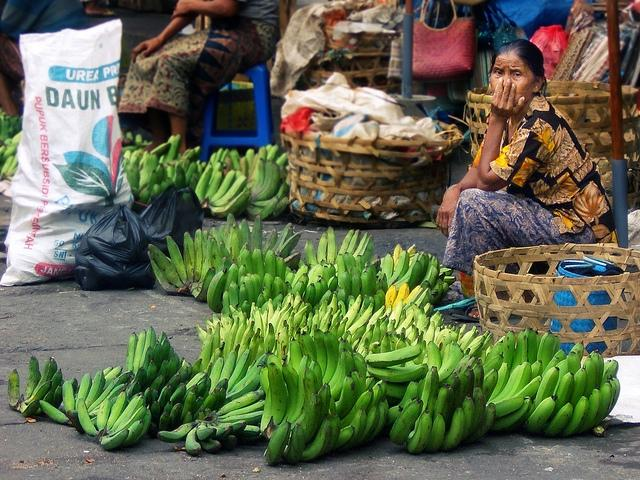banana: (287, 391, 322, 446), (227, 350, 270, 394), (261, 352, 282, 437), (300, 412, 332, 462), (290, 354, 312, 426), (390, 398, 423, 445), (148, 244, 184, 287), (307, 382, 331, 444), (555, 396, 590, 438), (364, 344, 423, 368), (522, 395, 558, 434), (106, 394, 140, 434), (464, 402, 496, 444), (337, 408, 367, 452), (330, 348, 355, 400), (216, 390, 266, 416), (208, 188, 250, 218), (268, 362, 288, 425), (210, 174, 248, 207), (328, 340, 353, 390), (112, 396, 144, 434), (407, 406, 432, 454), (577, 388, 603, 434), (88, 378, 121, 414), (167, 236, 190, 286), (226, 349, 252, 393), (265, 422, 291, 466), (502, 362, 532, 400), (280, 362, 298, 424), (90, 383, 128, 412), (535, 366, 560, 410), (254, 160, 280, 202), (445, 372, 462, 436), (354, 406, 381, 446), (420, 366, 440, 419), (542, 402, 573, 436), (438, 346, 464, 386), (281, 423, 305, 466), (367, 364, 424, 382), (551, 372, 574, 416), (366, 401, 390, 443), (207, 268, 228, 314), (217, 400, 265, 420), (322, 330, 339, 386), (346, 301, 374, 335), (210, 168, 237, 203), (335, 374, 356, 419), (494, 396, 531, 421), (469, 387, 487, 438), (157, 420, 198, 442), (433, 383, 454, 425), (302, 366, 320, 415), (106, 391, 128, 431), (536, 330, 556, 374), (424, 413, 446, 453), (488, 362, 510, 402), (191, 267, 216, 302), (247, 196, 280, 222), (388, 250, 410, 288), (218, 344, 240, 382), (328, 425, 356, 454), (138, 326, 156, 370), (340, 294, 362, 330), (84, 371, 104, 410), (374, 378, 409, 400), (570, 367, 586, 415), (78, 398, 98, 436), (42, 368, 62, 406), (195, 164, 213, 205), (510, 330, 526, 376), (275, 231, 302, 258), (514, 375, 542, 401), (24, 380, 53, 405), (40, 400, 70, 424), (397, 379, 421, 408), (217, 420, 260, 436), (24, 357, 40, 400), (248, 146, 266, 184), (484, 335, 506, 366), (183, 231, 196, 283), (461, 394, 475, 442), (8, 368, 24, 410), (406, 290, 430, 318), (132, 328, 146, 376), (272, 302, 292, 335), (458, 366, 474, 407), (314, 329, 327, 379), (276, 306, 294, 342), (75, 373, 92, 411), (218, 410, 264, 424), (582, 355, 596, 401), (100, 430, 129, 452), (198, 230, 210, 283), (522, 328, 538, 366), (223, 256, 239, 294), (500, 330, 516, 367), (482, 368, 498, 405), (226, 316, 240, 358), (252, 158, 266, 200), (261, 228, 278, 262), (366, 383, 383, 417), (606, 377, 620, 418), (121, 420, 143, 446), (392, 282, 411, 312), (290, 335, 304, 375), (209, 356, 224, 393), (165, 132, 182, 164), (205, 170, 222, 202), (186, 422, 202, 456), (300, 330, 317, 362), (206, 162, 224, 192), (600, 360, 619, 388), (252, 248, 265, 288), (132, 186, 151, 213), (388, 298, 404, 330), (407, 260, 422, 294), (96, 398, 110, 434), (256, 360, 270, 396), (366, 305, 386, 330), (194, 228, 203, 283), (347, 304, 366, 330), (250, 215, 262, 256), (340, 270, 352, 310), (126, 332, 138, 372), (62, 379, 76, 413), (352, 232, 369, 260), (233, 316, 247, 350), (208, 342, 225, 370), (427, 341, 442, 372), (223, 318, 234, 360), (458, 326, 476, 351), (168, 403, 184, 431), (158, 383, 172, 415), (438, 330, 452, 362), (150, 374, 166, 402), (209, 237, 221, 274), (421, 264, 438, 290), (540, 357, 560, 379), (186, 371, 209, 390), (363, 266, 377, 297), (138, 153, 150, 189), (351, 320, 369, 344), (396, 310, 414, 334), (327, 226, 338, 265), (236, 336, 250, 366), (210, 322, 221, 360), (42, 358, 58, 384), (264, 250, 277, 282), (346, 229, 362, 255), (259, 160, 272, 191), (403, 285, 422, 306), (316, 232, 328, 265), (351, 273, 363, 306), (169, 385, 187, 407), (358, 324, 375, 347), (166, 372, 182, 396), (240, 218, 252, 250), (1, 142, 19, 163), (304, 239, 318, 266), (381, 252, 394, 280), (230, 226, 240, 262), (528, 360, 544, 382), (293, 306, 309, 328), (337, 253, 348, 285), (568, 351, 582, 376), (264, 323, 276, 352), (197, 422, 216, 440), (154, 340, 164, 374), (185, 161, 198, 187), (413, 340, 427, 364), (319, 307, 333, 331), (247, 152, 259, 180), (207, 234, 216, 271), (223, 222, 233, 255), (353, 350, 368, 372), (423, 320, 435, 347), (472, 362, 484, 389), (241, 248, 253, 274), (385, 284, 397, 310), (343, 252, 357, 274), (313, 280, 324, 308), (226, 420, 248, 434), (244, 276, 255, 304), (570, 340, 584, 362), (249, 332, 258, 366), (105, 366, 123, 383), (1, 155, 14, 178), (5, 152, 18, 175), (469, 335, 486, 352), (262, 272, 274, 296), (291, 280, 305, 300), (230, 281, 240, 309), (150, 400, 160, 428), (134, 366, 146, 389), (395, 332, 410, 350), (212, 148, 224, 170), (276, 256, 286, 282), (416, 306, 427, 329), (327, 293, 338, 316), (251, 274, 260, 302), (126, 167, 138, 188), (268, 306, 281, 325), (220, 240, 230, 264), (318, 298, 328, 322), (448, 340, 460, 360), (266, 145, 280, 162), (281, 292, 295, 309), (379, 318, 388, 344), (196, 379, 207, 400), (380, 332, 391, 353), (181, 362, 193, 381), (237, 264, 246, 289), (189, 171, 200, 191), (246, 148, 254, 175), (174, 172, 186, 190), (240, 282, 248, 308), (275, 152, 288, 168), (296, 273, 308, 290), (148, 170, 158, 190), (156, 164, 166, 184), (272, 292, 283, 310), (553, 348, 567, 362), (162, 338, 170, 362), (599, 352, 604, 390), (230, 150, 240, 169), (164, 163, 175, 180), (434, 314, 444, 332), (397, 309, 406, 329), (322, 266, 332, 284), (262, 309, 268, 338), (356, 255, 365, 274), (224, 154, 234, 171), (408, 324, 416, 345), (440, 282, 449, 300), (535, 328, 541, 354), (280, 165, 288, 183), (220, 148, 229, 164), (184, 148, 196, 160), (12, 130, 22, 144), (285, 270, 295, 284), (130, 154, 140, 168), (136, 141, 153, 149), (254, 273, 262, 290), (439, 267, 454, 276), (321, 277, 328, 296), (383, 398, 389, 420), (307, 312, 313, 334), (214, 230, 222, 246), (338, 300, 346, 316), (249, 314, 256, 332), (383, 304, 393, 316), (7, 123, 15, 137), (221, 313, 229, 327), (196, 160, 202, 176), (424, 252, 429, 270), (294, 328, 300, 342), (194, 146, 201, 158), (438, 272, 446, 282), (262, 289, 268, 302), (286, 282, 292, 294), (178, 357, 184, 369), (110, 403, 116, 414), (1, 146, 9, 154), (337, 314, 344, 323), (184, 380, 190, 386)
